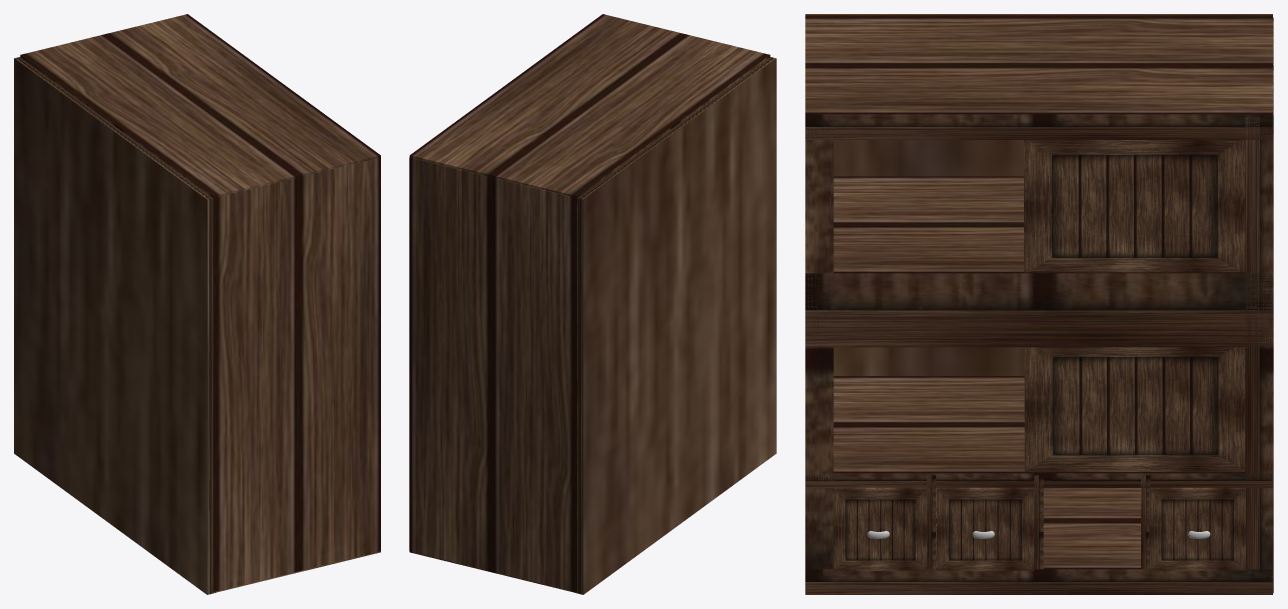
Rendered from Armario.obj.
The picture shows the model from 3 angles, left to right: view 1: azimuth 30°, elevation 25°; view 2: azimuth 150°, elevation 25°; view 3: azimuth 270°, elevation 25°; orthographic projection. The views are drawn at different scales.
Parts seen in each view (by area): view 1: pasted__pasted__pCube1 pasted__group3 group9, pasted__pasted__pCube1 pasted__group group2, pasted__pCube1 group4; view 2: pasted__pasted__pCube1 pasted__group3 group9, pasted__pCube1 group, pasted__pCube1 group4; view 3: pasted__pCube1 group4, pasted__pasted__pCube1 pasted__group4 group5, pasted__pasted__pasted__pasted__pasted__pasted__pCube1 pasted__p, pasted__pasted__pasted__pasted__pasted__pCube1 pasted__pasted__p, pasted__pCube1 group3, pCube1, pasted__pasted__pCube1 pasted__group3 group9, pasted__pCube1 group, pasted__pasted__pCube1 pasted__group group2, pasted__pasted__pasted__pasted__pCube1 pasted__pasted__pasted__g, pasted__pasted__group11 pasted__group12 group13 pasted__pasted__, pasted__pasted__pasted__pCube1 pasted__pasted__group3 pasted__gr (+2 smaller).
Boxes of the visible parts, x1,y1,x2,y2 form: pasted__pasted__pCube1 pasted__group3 group9: (14, 57, 216, 594); pasted__pasted__pCube1 pasted__group group2: (213, 157, 380, 591); pasted__pCube1 group4: (20, 14, 380, 197); pasted__pasted__pCube1 pasted__group3 group9: (574, 57, 776, 594); pasted__pCube1 group: (409, 157, 577, 591); pasted__pCube1 group4: (409, 14, 770, 197); pasted__pCube1 group4: (805, 15, 1272, 139); pasted__pasted__pCube1 pasted__group4 group5: (805, 176, 1272, 347); pasted__pasted__pasted__pasted__pasted__pasted__pCube1 pasted__p: (1024, 140, 1245, 272); pasted__pasted__pasted__pasted__pasted__pCube1 pasted__pasted__p: (1024, 347, 1245, 471); pasted__pCube1 group3: (805, 376, 1272, 487); pCube1: (805, 488, 1272, 594); pasted__pasted__pCube1 pasted__group3 group9: (805, 14, 1272, 375); pasted__pCube1 group: (1245, 17, 1273, 593); pasted__pasted__pCube1 pasted__group group2: (805, 120, 833, 569); pasted__pasted__pasted__pasted__pCube1 pasted__pasted__pasted__g: (936, 475, 1150, 570); pasted__pasted__group11 pasted__group12 group13 pasted__pasted__: (1149, 487, 1245, 570); pasted__pasted__pasted__pCube1 pasted__pasted__group3 pasted__gr: (833, 487, 927, 570).
Bounding box in the file's own units: 6.38 × 13.52 × 11.93.
